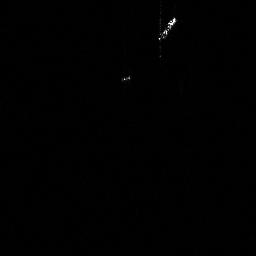ship: (153, 13, 180, 44)
